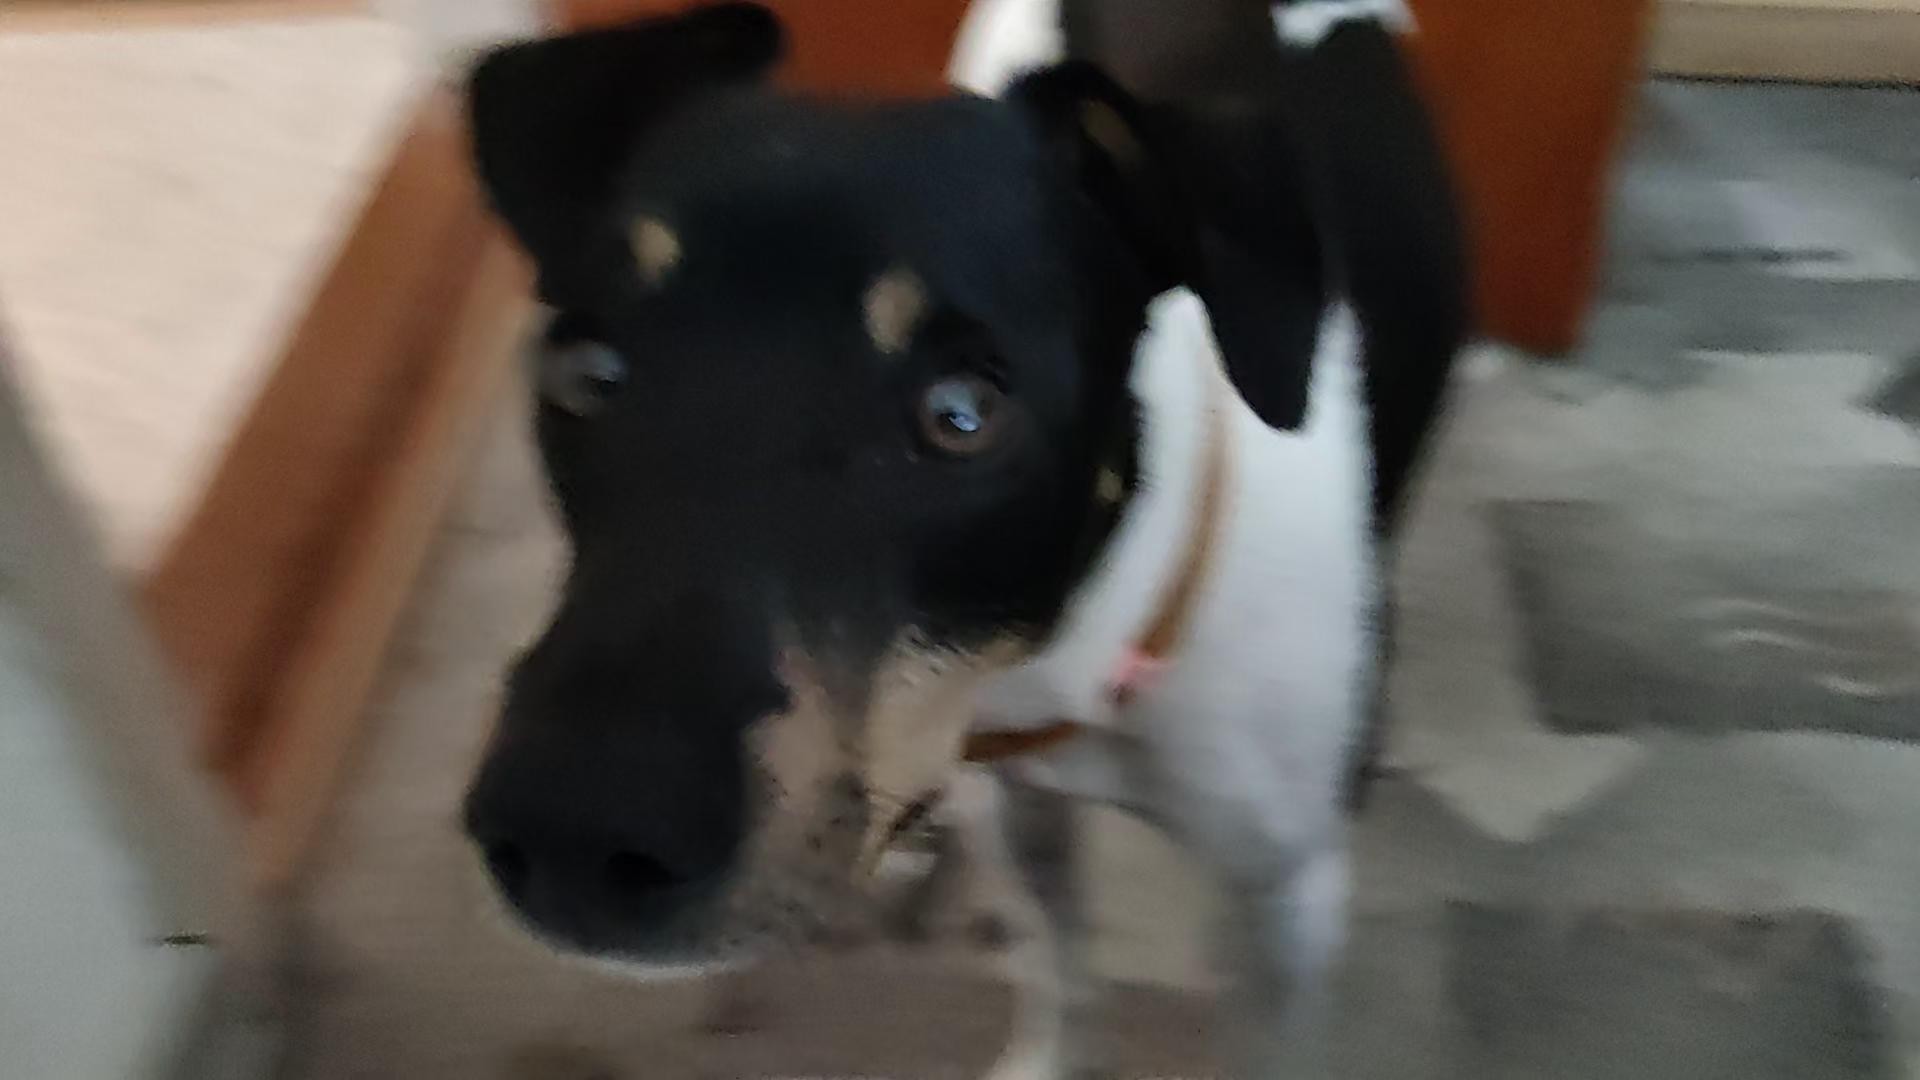Dog: (415, 0, 1518, 1079)
